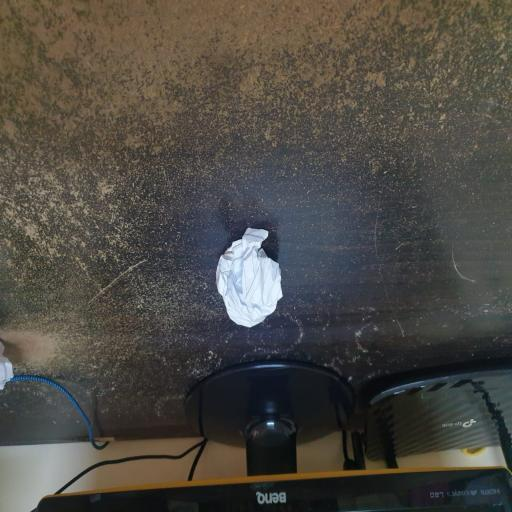Kertas: (213, 225, 281, 328)
